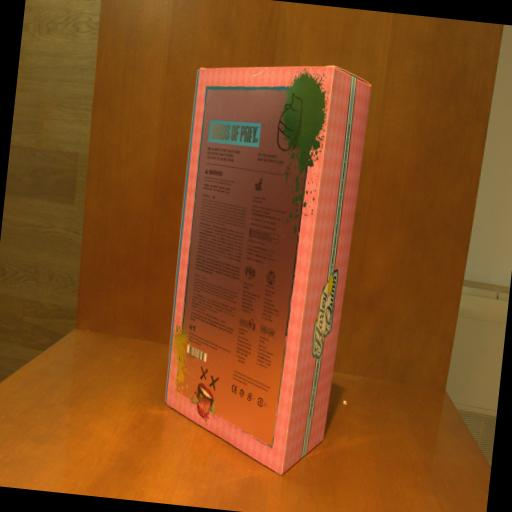Harley: (157, 51, 374, 479)
